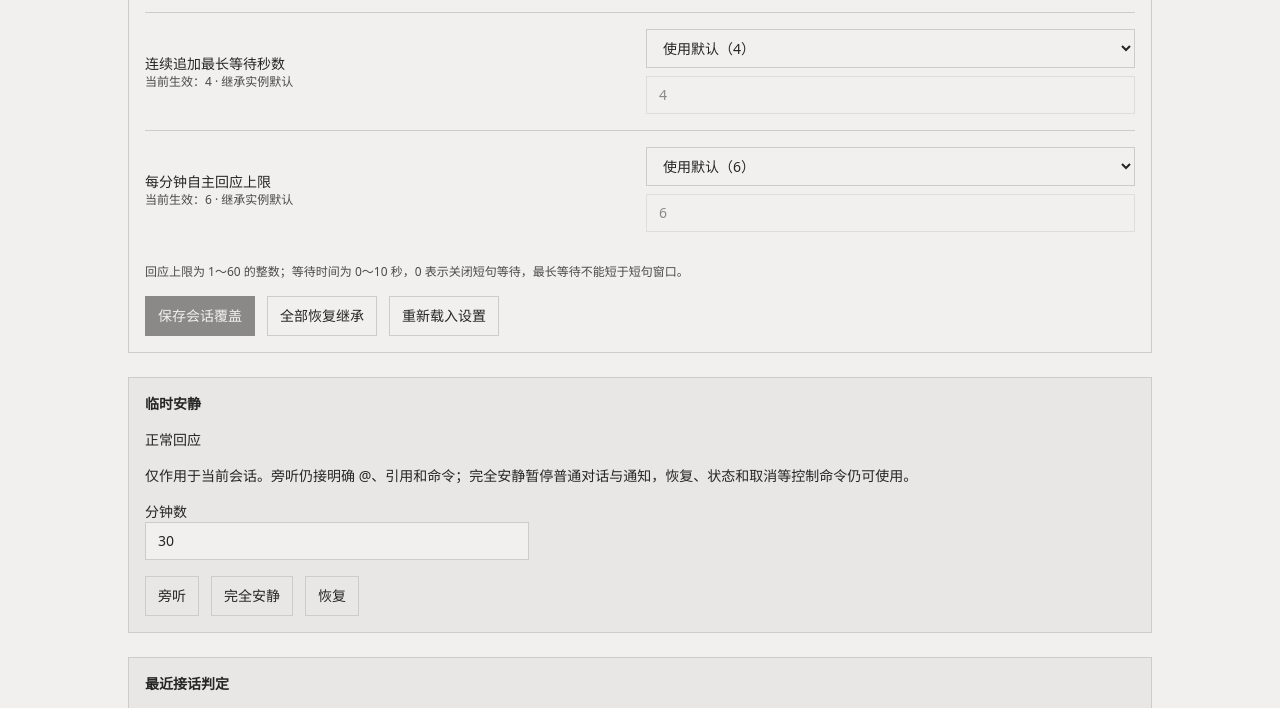
it: 实例默认与逐项继承的读写合同 › 全部恢复继承仅修改草稿；保存删除覆盖而不把有效值重新写成覆盖
The width and height of the screenshot is (1280, 708).
(page scrolled)
Click the button "全部恢复继承". click: (322,316)
box: [267, 296, 377, 336]
(page scrolled)
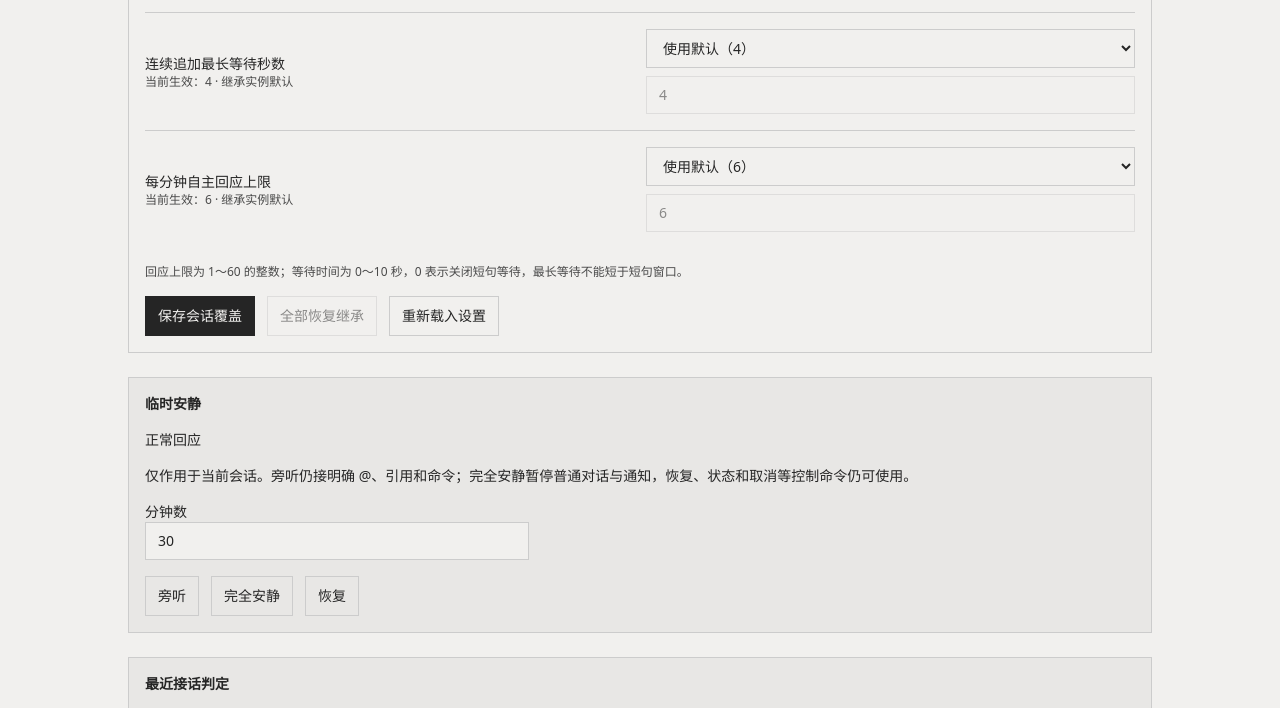
Click the button "保存会话覆盖". click: (200,316)
box: [145, 296, 255, 336]
(page scrolled)
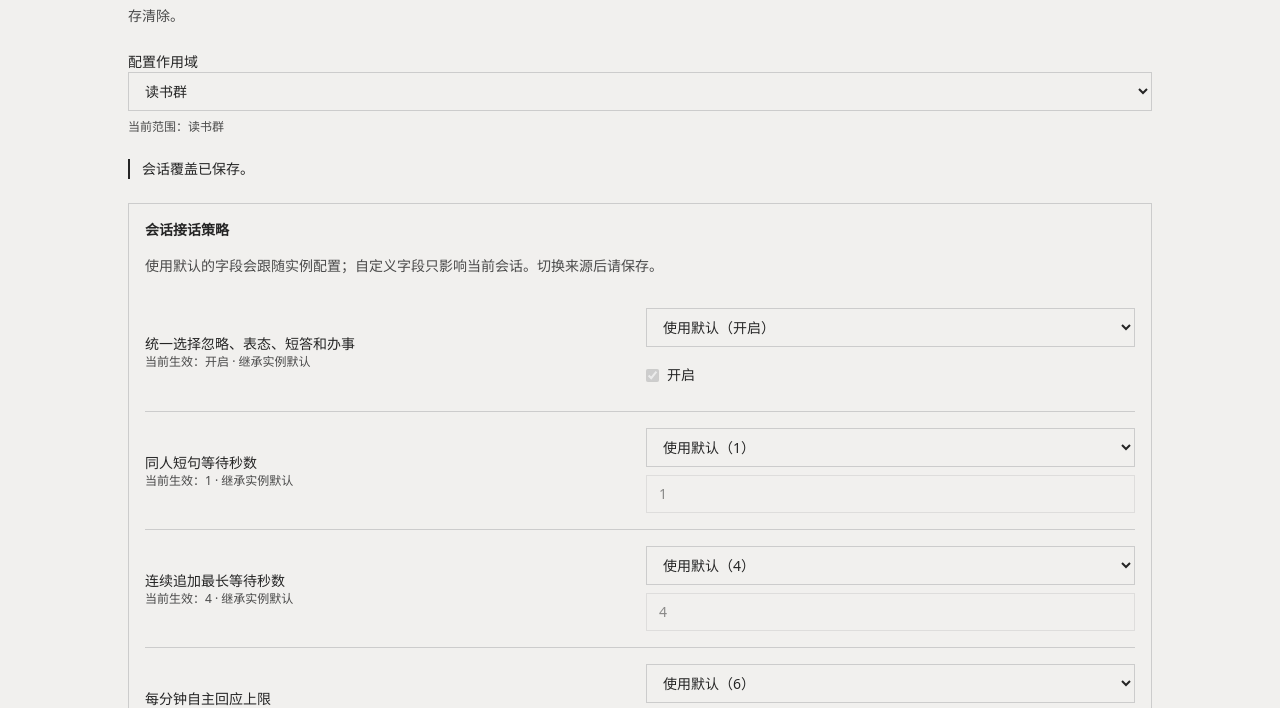
Expected: the text "会话覆盖已保存。" is shown, [128, 159, 1152, 179]
